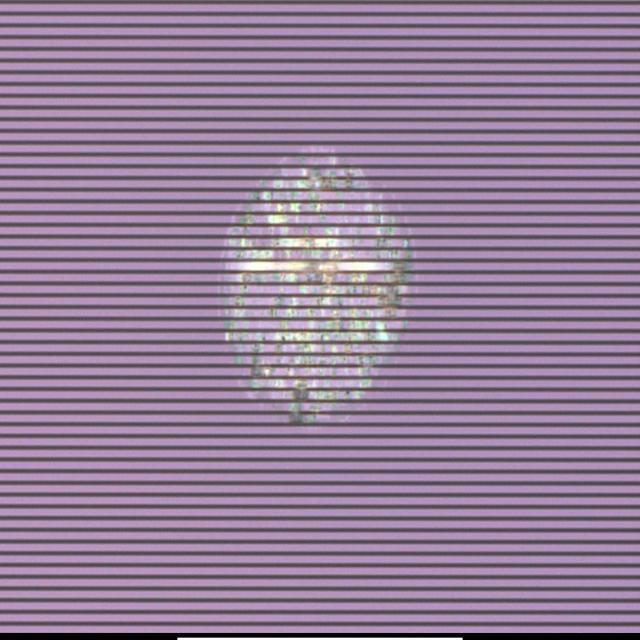03_intrusion: (211, 154, 419, 424)
